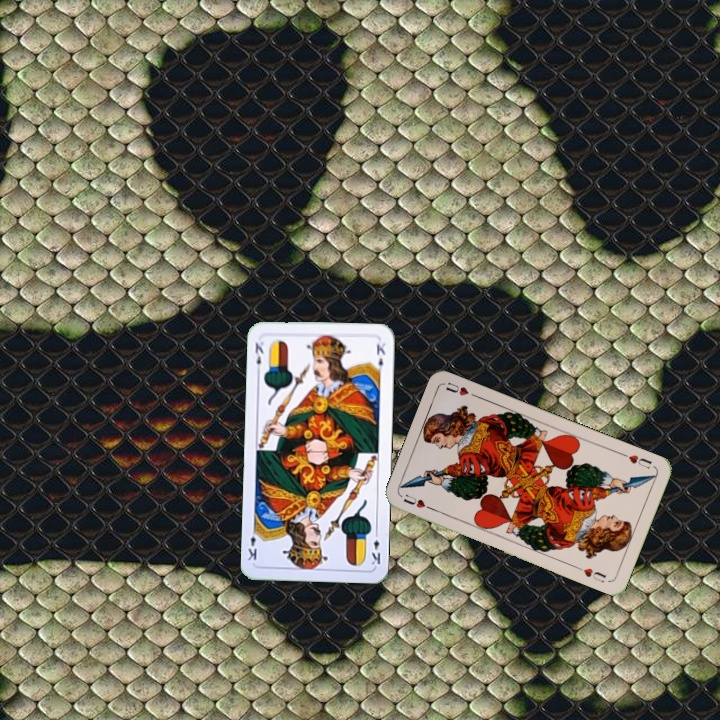EK: (367, 527, 383, 567), (251, 337, 266, 375)
HU: (399, 490, 437, 513), (618, 449, 654, 471)
